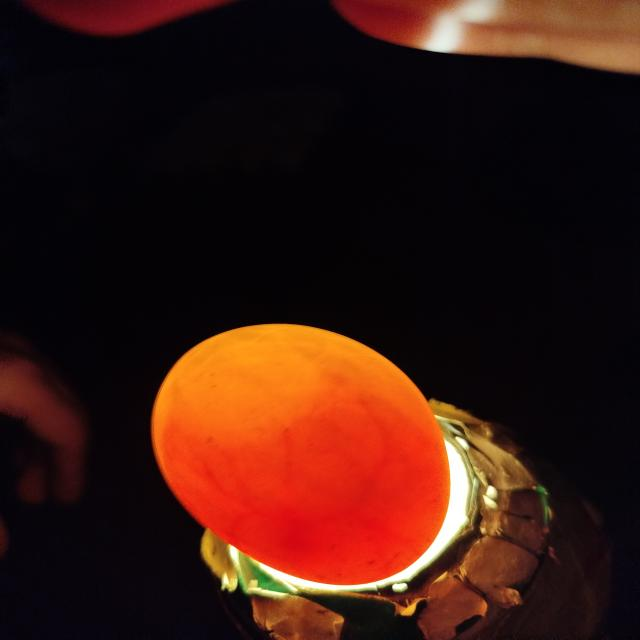Gema Quebrada: (187, 419, 449, 586)
